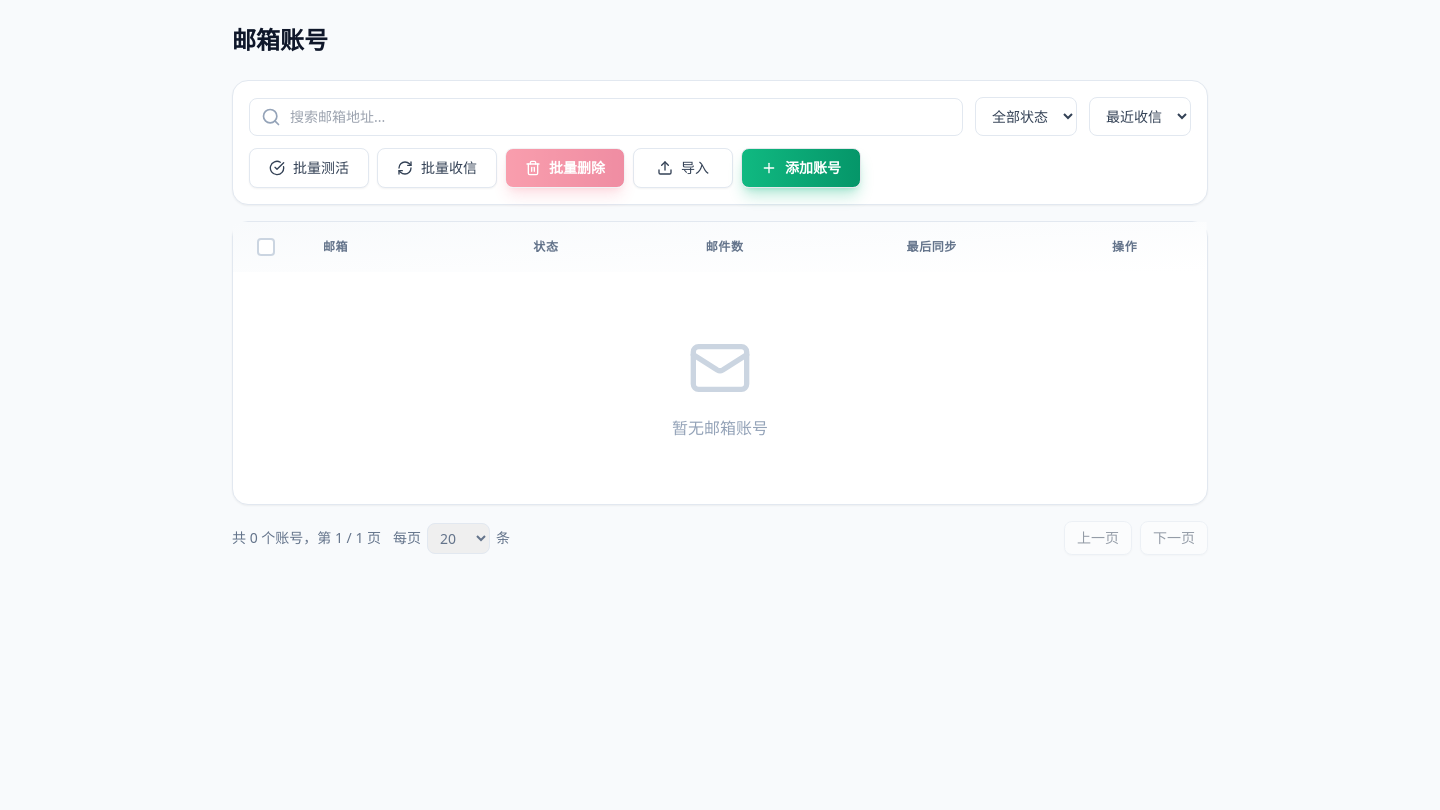
Test case: AccountsPage › 添加账号表单标题为"添加邮箱账号"
This screenshot has width=1440, height=810.
Click the button "添加账号". click: (801, 168)
box: [741,148,861,188]
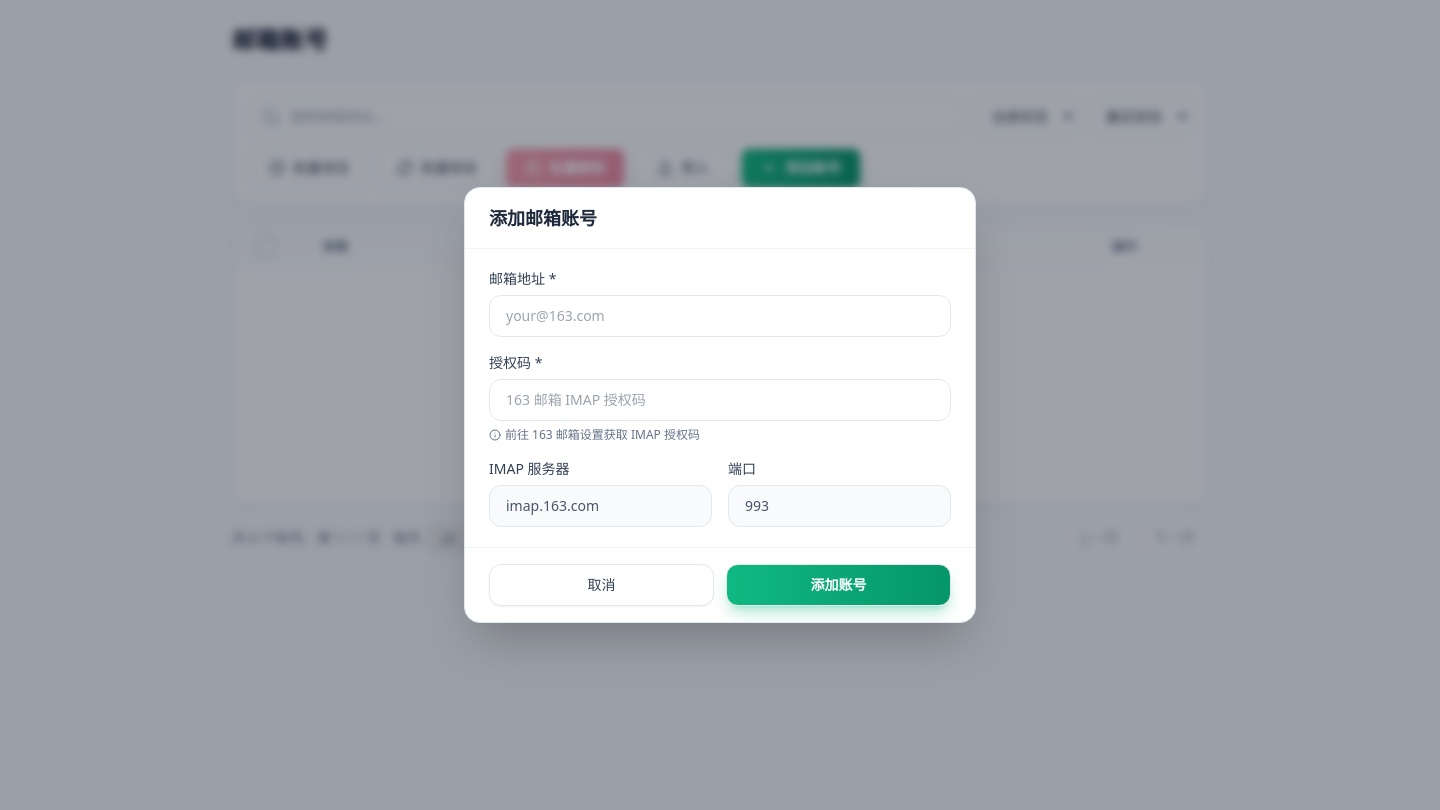
Now the heading "添加邮箱账号" is shown, box [489,204,597,232]
